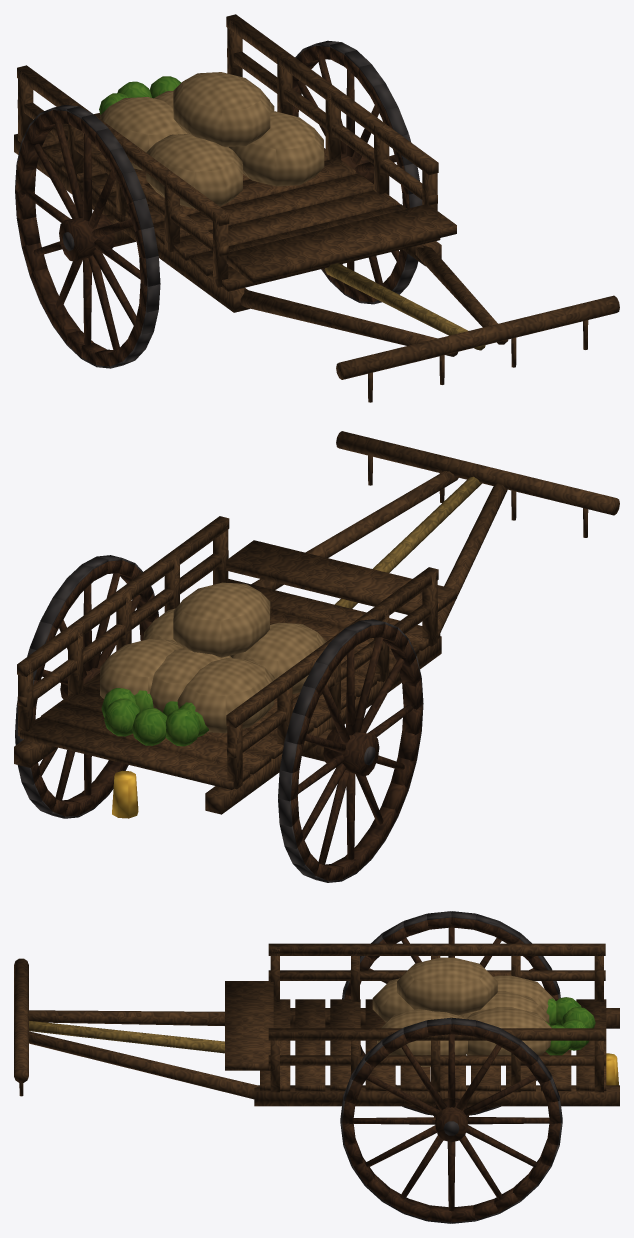
The model's file is kerala_bullock_cart_cargo.glb.
3 views of the same model, one above another, from view 1: azimuth 30°, elevation 25°; view 2: azimuth 150°, elevation 25°; view 3: azimuth 270°, elevation 25° (orthographic). The views are drawn at different scales.
Parts seen in each view (by area): view 1: Cart_Chassis.001, Cart_CargoSacks.001, Wheel_L_Wood.001, Wheel_R_Wood.001, Wheel_L_Iron.001, Wheel_R_Iron.001, Cart_BambooShaft.001, Cart_Coconuts.001; view 2: Cart_Chassis.001, Cart_CargoSacks.001, Wheel_L_Wood.001, Wheel_R_Wood.001, Wheel_L_Iron.001, Cart_Coconuts.001, Wheel_R_Iron.001, Cart_BambooShaft.001, Cart_BrassLantern.001; view 3: Cart_Chassis.001, Wheel_R_Wood.001, Cart_CargoSacks.001, Wheel_R_Iron.001, Wheel_L_Wood.001, Cart_BambooShaft.001, Cart_Coconuts.001, Wheel_L_Iron.001.
Boxes of the visible parts, x1,y1,x2,y2 form: Cart_Chassis.001: (14, 14, 619, 402); Cart_CargoSacks.001: (100, 72, 324, 208); Wheel_L_Wood.001: (15, 110, 147, 366); Wheel_R_Wood.001: (292, 45, 409, 302); Wheel_L_Iron.001: (15, 105, 160, 368); Wheel_R_Iron.001: (295, 40, 422, 304); Cart_BambooShaft.001: (324, 263, 485, 350); Cart_Coconuts.001: (99, 76, 181, 114); Cart_Chassis.001: (14, 431, 619, 814); Cart_CargoSacks.001: (100, 582, 326, 733); Wheel_L_Wood.001: (291, 624, 422, 880); Wheel_R_Wood.001: (31, 560, 158, 816); Wheel_L_Iron.001: (278, 619, 423, 882); Cart_Coconuts.001: (101, 688, 208, 746); Wheel_R_Iron.001: (15, 555, 158, 818); Cart_BambooShaft.001: (335, 476, 481, 608); Cart_BrassLantern.001: (112, 770, 138, 818); Cart_Chassis.001: (14, 943, 619, 1106); Wheel_R_Wood.001: (342, 1024, 560, 1222); Cart_CargoSacks.001: (372, 957, 554, 1066); Wheel_R_Iron.001: (340, 1017, 562, 1223); Wheel_L_Wood.001: (344, 917, 558, 1113); Cart_BambooShaft.001: (29, 1020, 224, 1053); Cart_Coconuts.001: (545, 997, 595, 1055); Wheel_L_Iron.001: (342, 911, 560, 1115).
Size of the model in its own units: 2.03 by 1.58 by 4.23.
Materials: 7 (7 with a texture image).
